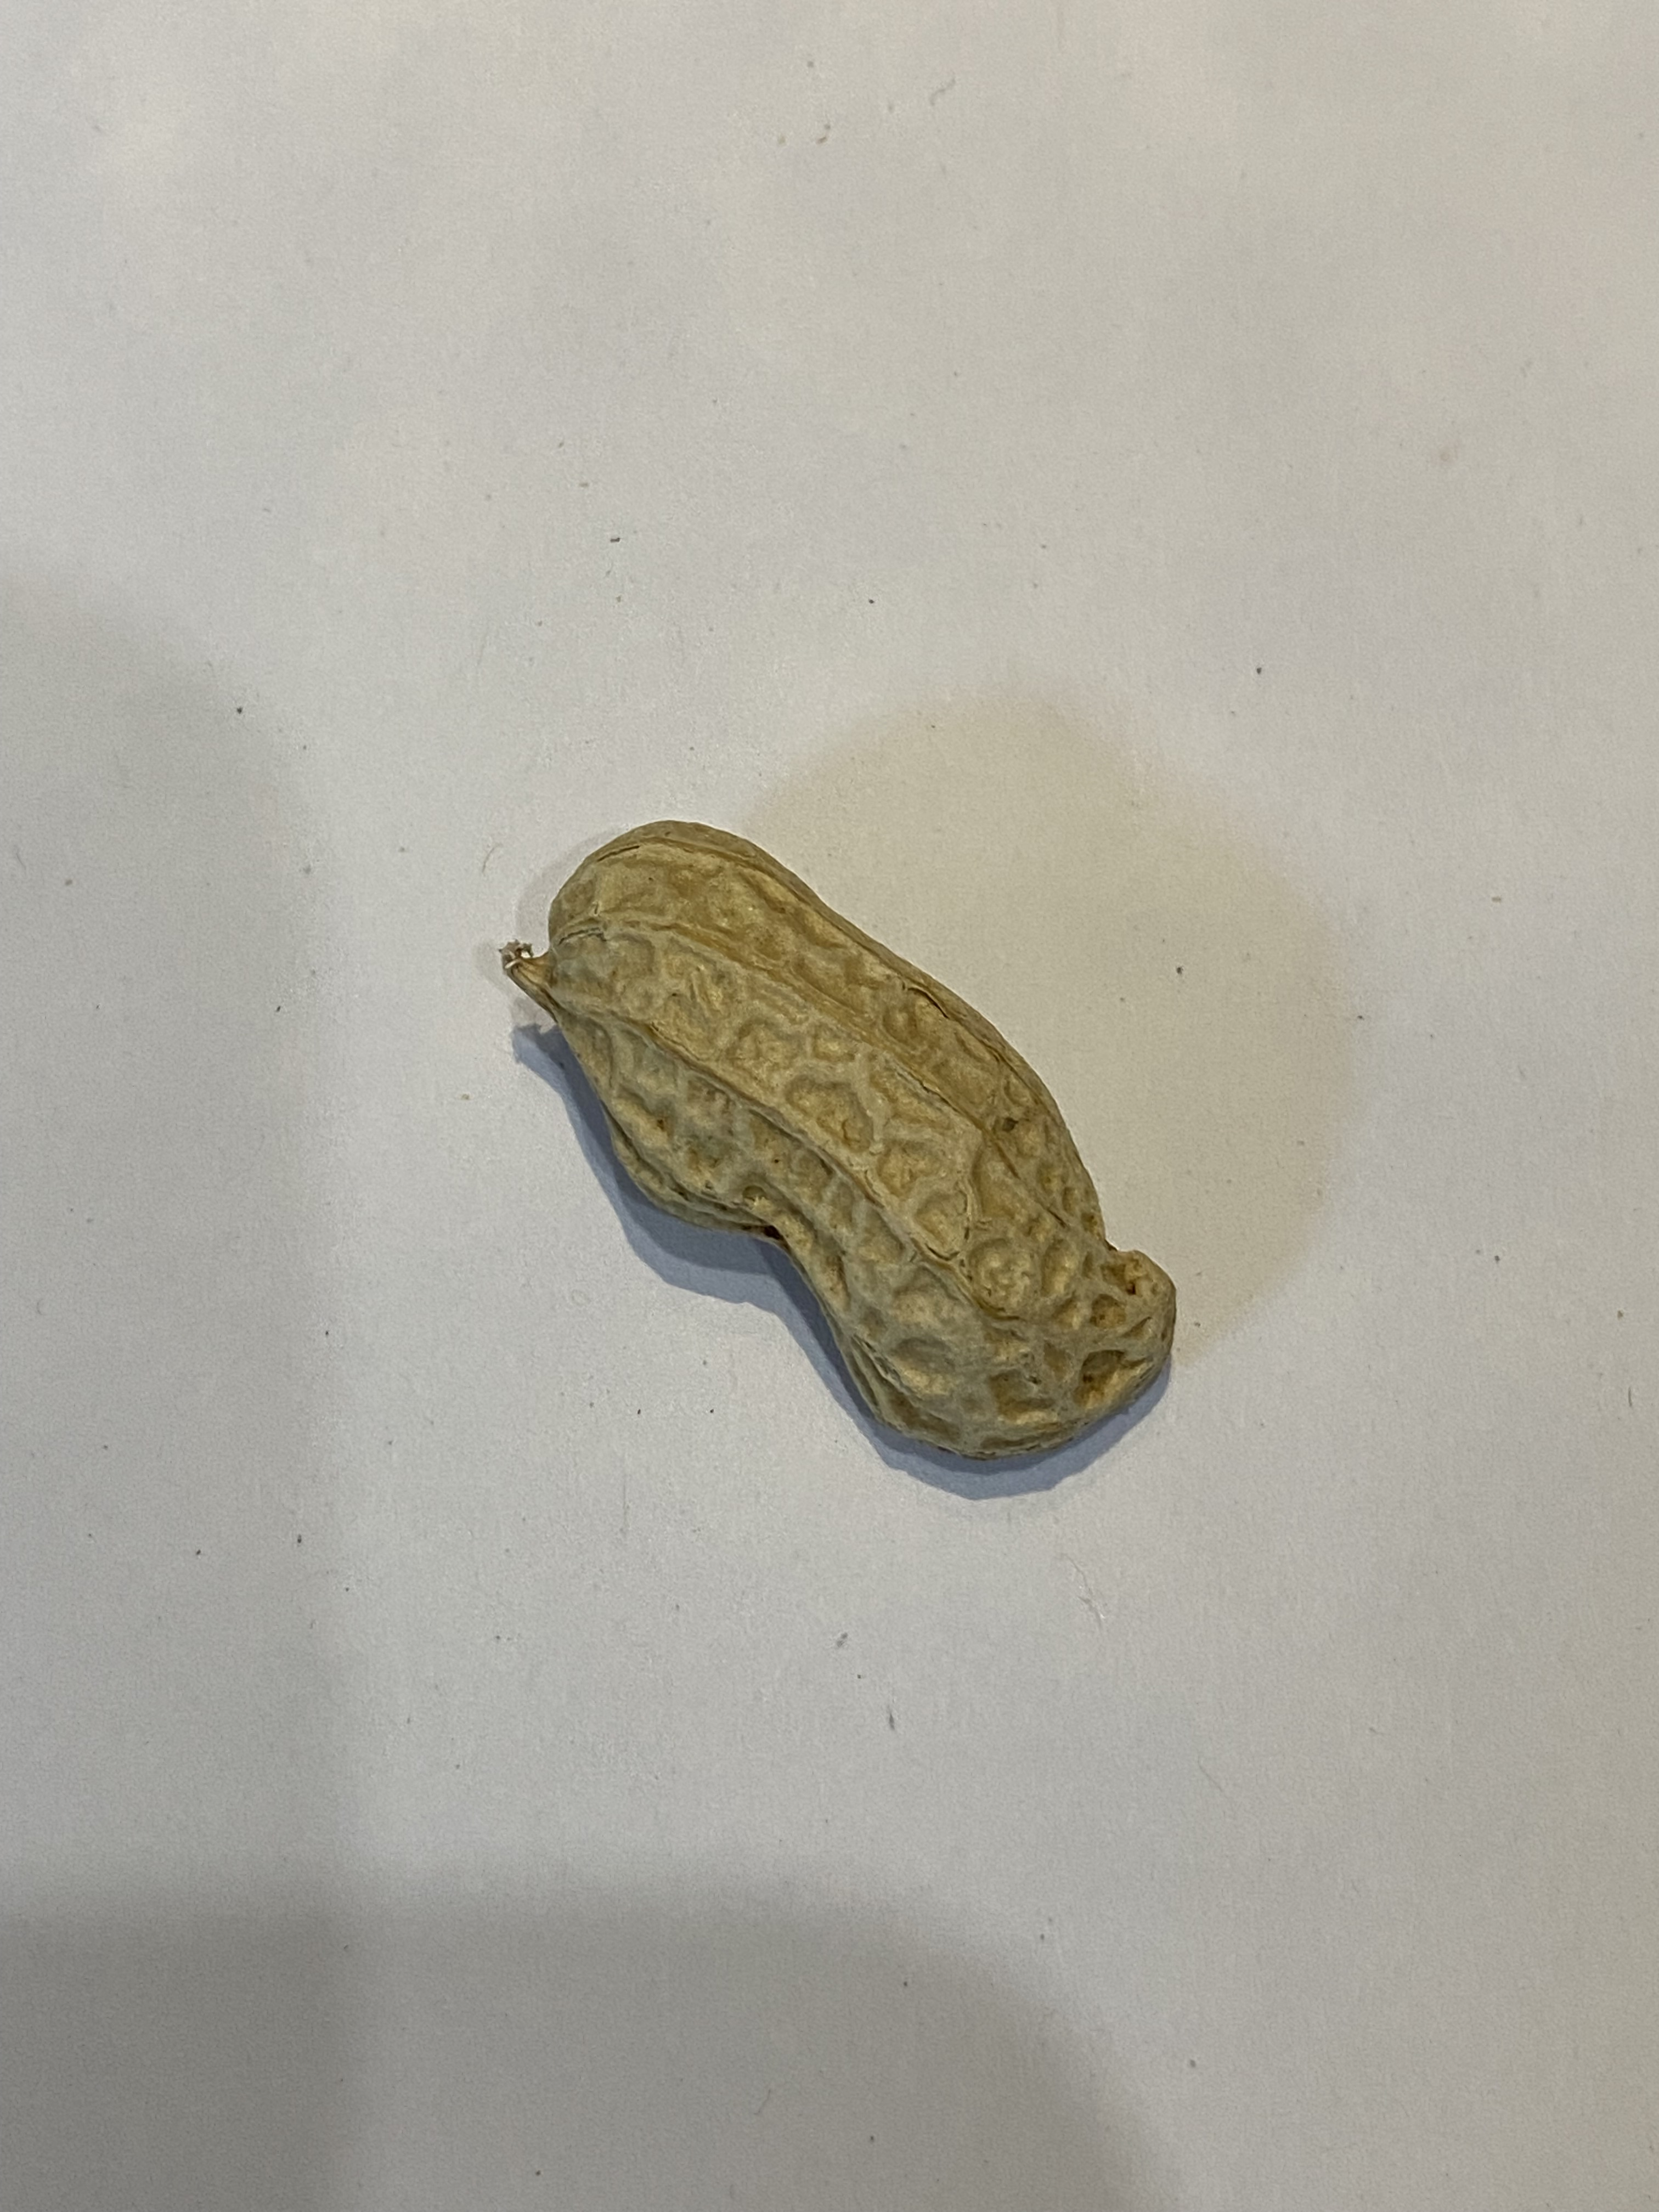kacang2: (453, 780, 1188, 1487)
